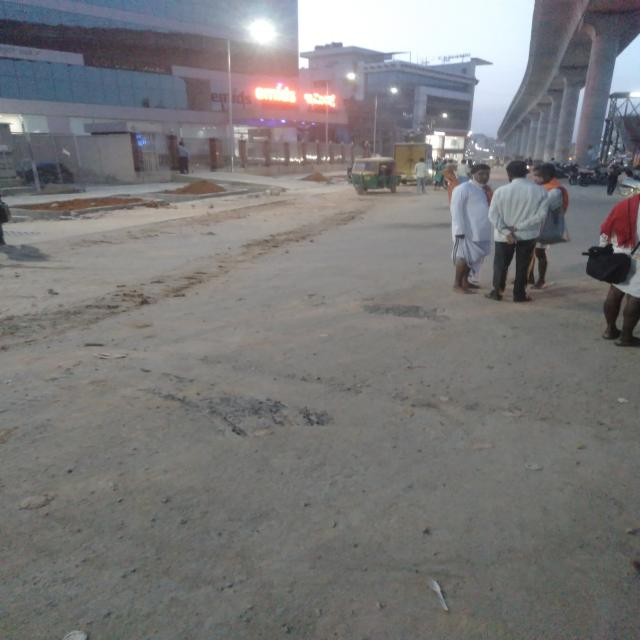Autorickshaw: (349, 156, 398, 192)
Bike: (576, 168, 605, 187), (619, 170, 640, 196), (566, 169, 594, 187), (554, 162, 582, 178)
tempo: (393, 144, 436, 184)
